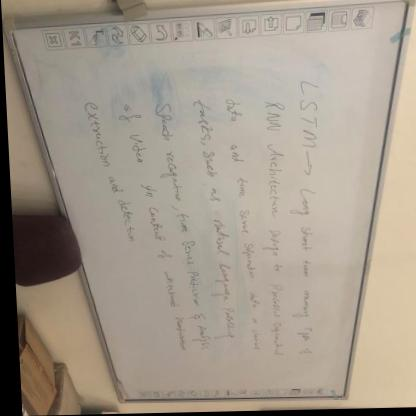Handwritten text: (108, 96, 185, 366), (141, 87, 210, 362), (277, 74, 327, 366), (184, 91, 236, 357), (65, 94, 143, 267), (216, 89, 259, 364), (260, 87, 286, 364)
Whiteboard: (13, 1, 414, 407)
